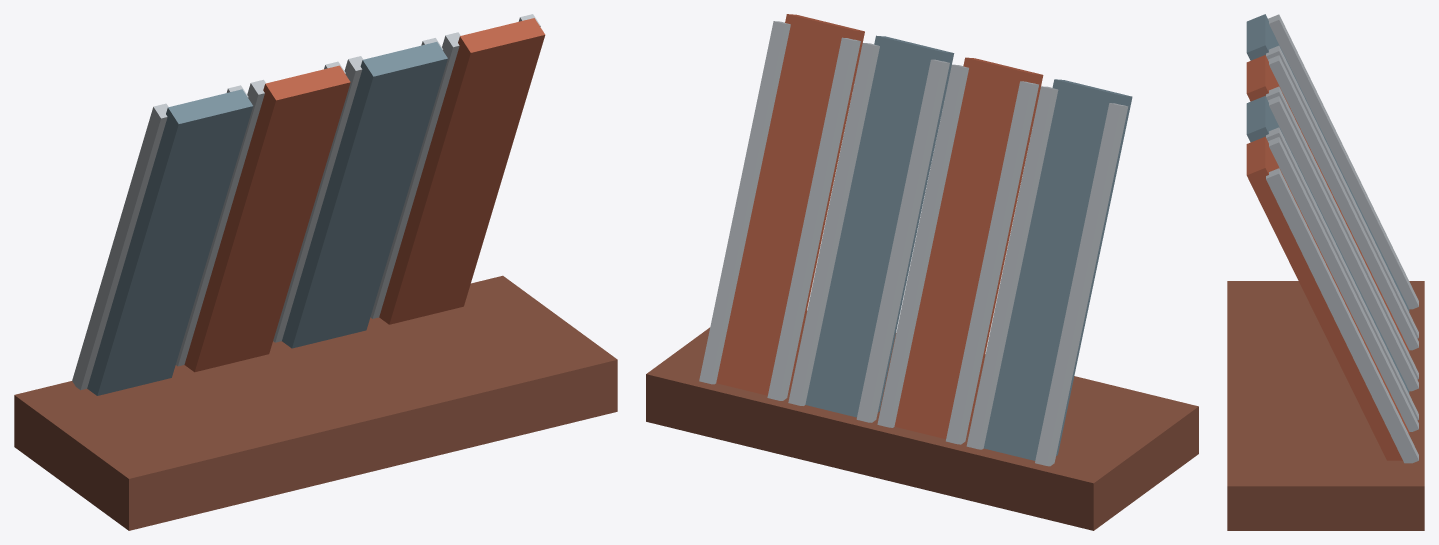
File: sled-rack.glb
3 renders of one model, left to right at view 1: azimuth 30°, elevation 25°; view 2: azimuth 150°, elevation 25°; view 3: azimuth 270°, elevation 25°, orthographic. The views are drawn at different scales.
Visible parts, largest first — view 1: sled-rack; view 2: sled-rack; view 3: sled-rack.
Boxes of the visible parts, x1,y1,x2,y2 form: sled-rack: (14, 14, 617, 530); sled-rack: (646, 14, 1198, 530); sled-rack: (1227, 14, 1424, 530).
Size of the model in its own units: 2.36 by 1.81 by 0.96.
